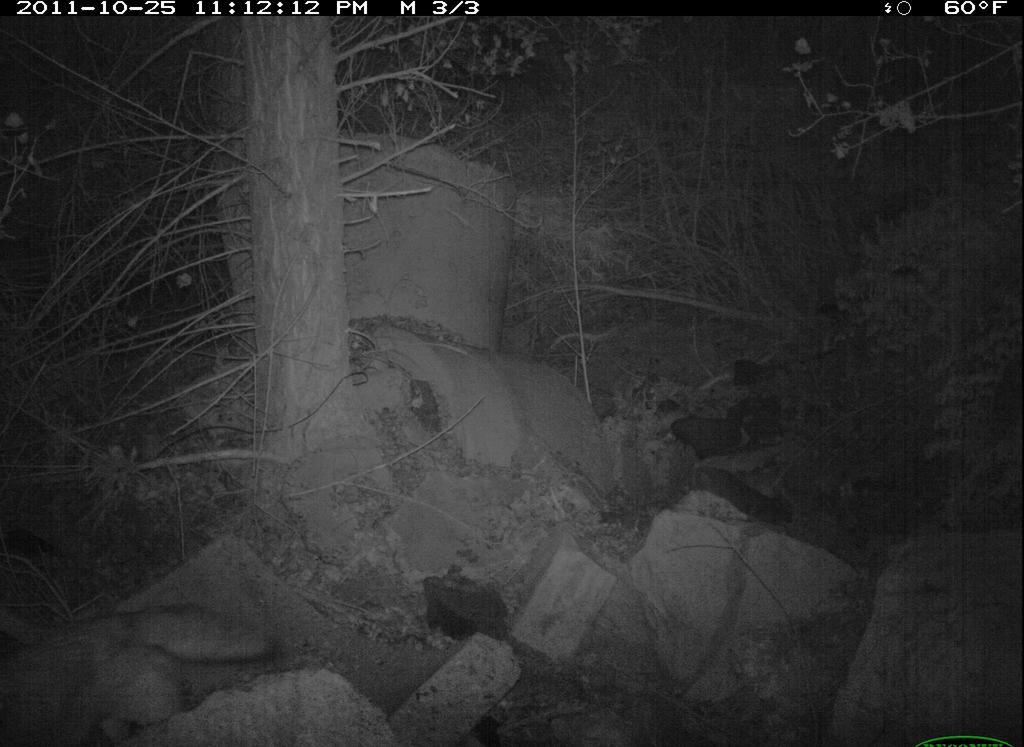coyote: (4, 601, 287, 747)
